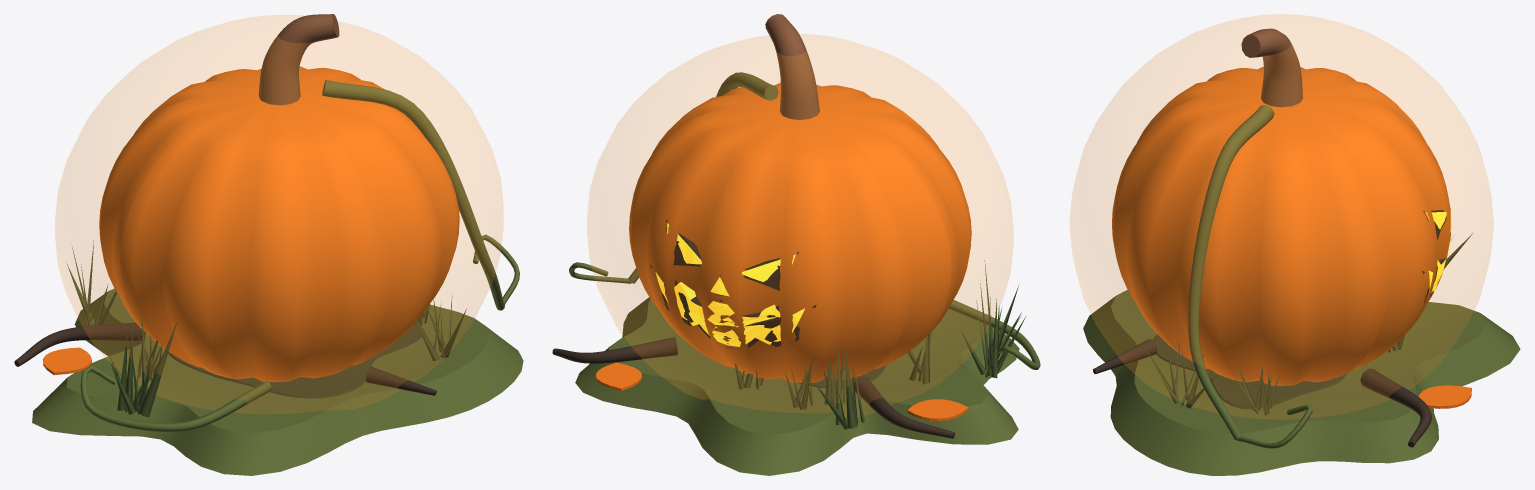
File: BAYOU_PUMPKIN.glb
3 renders of one model, left to right at view 1: azimuth 30°, elevation 25°; view 2: azimuth 150°, elevation 25°; view 3: azimuth 270°, elevation 25°, orthographic. The views are drawn at different scales.
Visible parts, largest first — view 1: VFX_Pulse_PumpkinHalo, Pumpkin, Ground, Vines, Grass, Pumpkin_Stem, Ground_Mud, Roots, Leaf_Fallen; view 2: VFX_Pulse_PumpkinHalo, Pumpkin, Ground, Grass, Pumpkin_Stem, Roots, Vines, Glow_PumpkinFace, Leaf_Fallen (×2), Pumpkin_Carve; view 3: VFX_Pulse_PumpkinHalo, Pumpkin, Ground, Vines, Pumpkin_Stem, Ground_Mud, Roots, Grass, Leaf_Fallen.
Part boxes in pixels (x1,y1,x2,y2): VFX_Pulse_PumpkinHalo: (55,15,502,413); Pumpkin: (99,66,459,382); Ground: (32,288,523,475); Vines: (80,80,519,431); Grass: (66,240,466,417); Pumpkin_Stem: (258,14,339,105); Ground_Mud: (168,323,424,398); Roots: (14,322,436,395); Leaf_Fallen: (43,347,91,375); VFX_Pulse_PumpkinHalo: (587,34,1012,416); Pumpkin: (629,82,971,382); Ground: (575,297,1019,475); Grass: (734,260,1025,429); Pumpkin_Stem: (765,14,819,119); Roots: (552,337,954,438); Vines: (569,72,1040,369); Glow_PumpkinFace: (655,272,804,346); Leaf_Fallen (×2): (595,362,968,420); Pumpkin_Carve: (650,264,816,348); VFX_Pulse_PumpkinHalo: (1070,14,1493,418); Pumpkin: (1112,66,1450,385); Ground: (1083,290,1520,475); Vines: (1188,105,1312,448); Pumpkin_Stem: (1241,28,1302,107); Ground_Mud: (1153,334,1347,409); Roots: (1093,339,1431,447); Grass: (1145,233,1472,415); Leaf_Fallen: (1418,385,1471,408).
Bounding box in the file's own units: 3.8 × 3.02 × 3.14.
